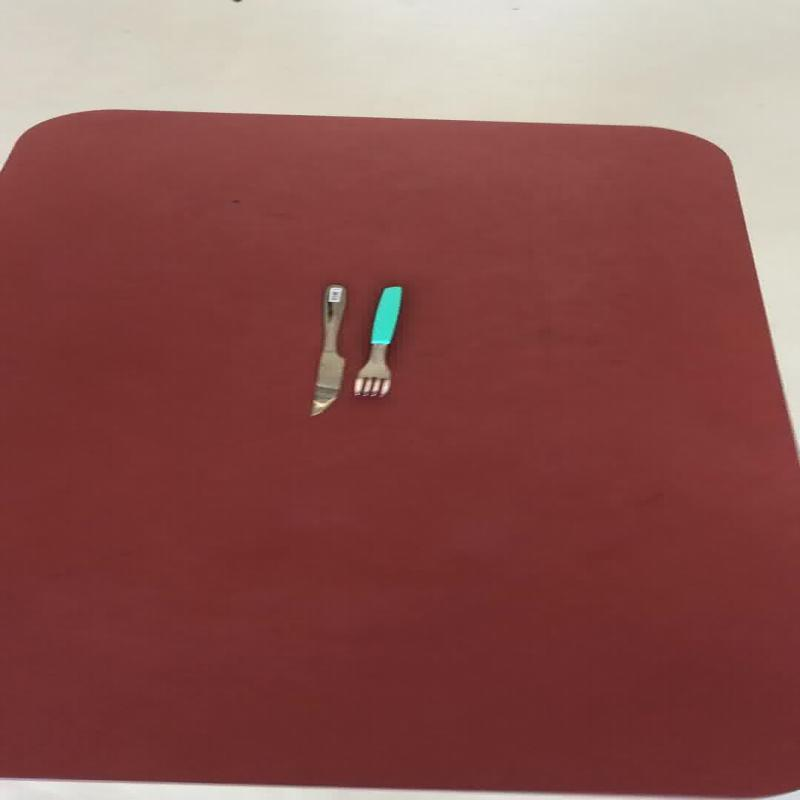fork: (352, 284, 403, 398), (307, 284, 346, 416)
knife: (352, 284, 403, 398), (307, 284, 346, 416)
